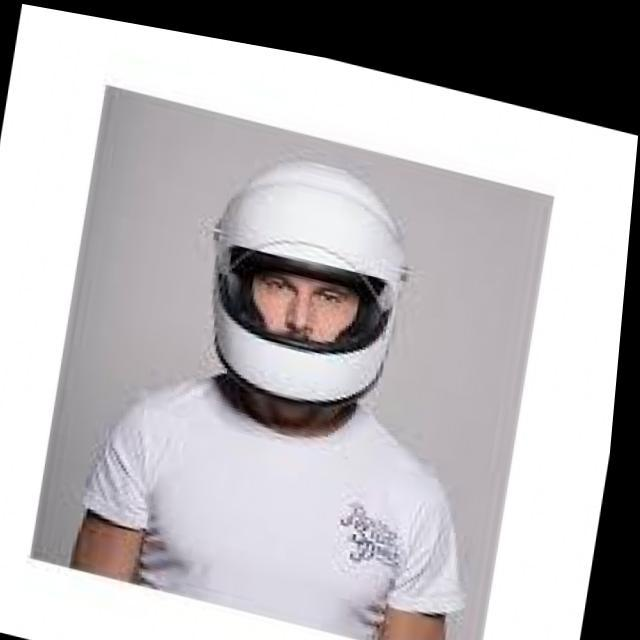Helmet: (192, 152, 420, 420)
